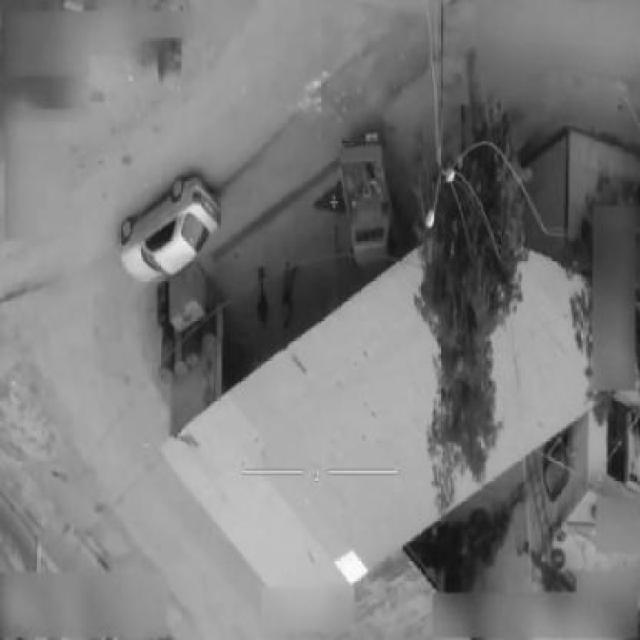Person: (281, 261, 301, 333), (257, 268, 273, 332)
Vehicle: (120, 176, 225, 287), (340, 133, 404, 275)
